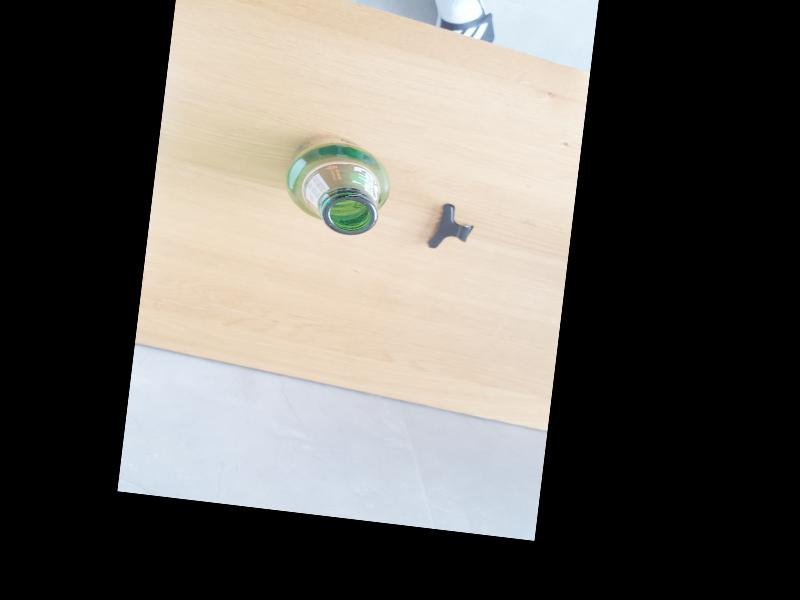Beer: (280, 129, 398, 239)
